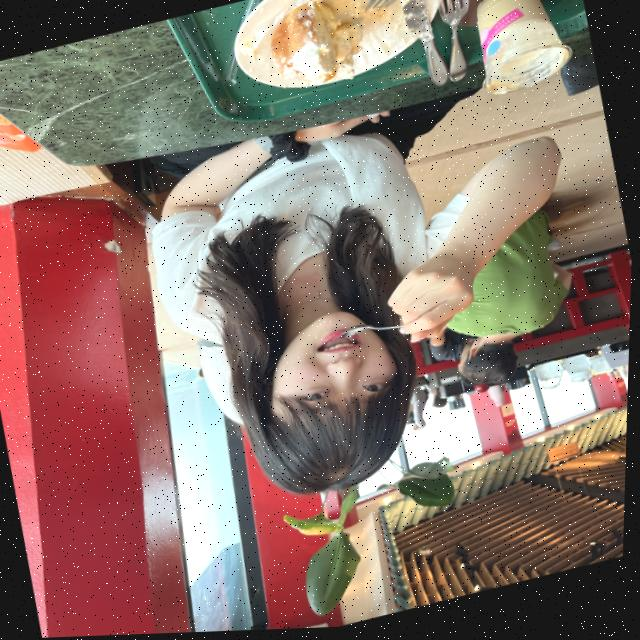eating-person: (93, 0, 640, 548)
